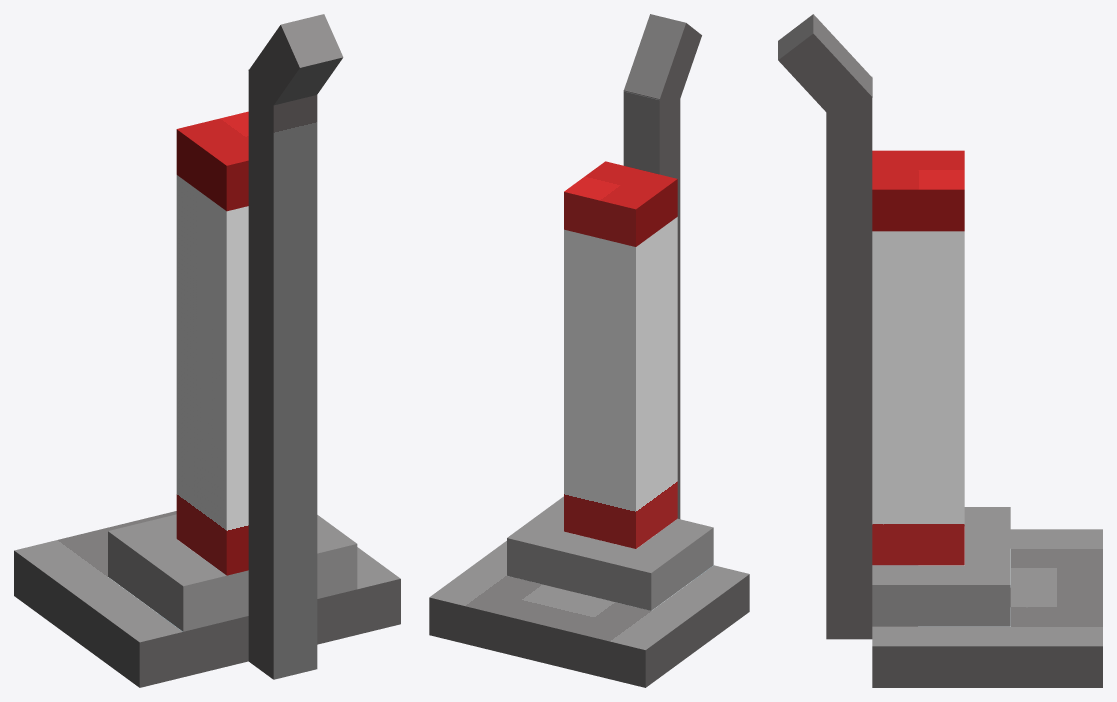
File: vacuum_cleaner.glb
3 renders of one model, left to right at view 1: azimuth 30°, elevation 25°; view 2: azimuth 150°, elevation 25°; view 3: azimuth 270°, elevation 25°, orthographic. The views are drawn at different scales.
Parts seen in each view (by area): view 1: Tube_0, cube_2, cube_7, cube_8, Handle_1, cube_3; view 2: cube_2, cube_7, cube_8, cube_3, Tube_0, Handle_1; view 3: cube_2, Tube_0, cube_7, cube_8, cube_3, Handle_1.
Boxes of the visible parts, bbox=[...] form: Tube_0: bbox=[248, 69, 317, 679]; cube_2: bbox=[176, 175, 248, 575]; cube_7: bbox=[14, 511, 400, 687]; cube_8: bbox=[108, 514, 357, 631]; Handle_1: bbox=[248, 14, 343, 113]; cube_3: bbox=[176, 111, 248, 211]; cube_2: bbox=[564, 217, 677, 548]; cube_7: bbox=[429, 541, 749, 687]; cube_8: bbox=[507, 496, 713, 610]; cube_3: bbox=[564, 161, 677, 246]; Tube_0: bbox=[623, 84, 680, 518]; Handle_1: bbox=[624, 14, 701, 100]; cube_2: bbox=[872, 231, 964, 565]; Tube_0: bbox=[826, 77, 872, 639]; cube_7: bbox=[872, 529, 1102, 687]; cube_8: bbox=[872, 507, 1010, 626]; cube_3: bbox=[872, 150, 964, 231]; Handle_1: bbox=[778, 14, 872, 123].
Bounding box in the file's own units: 0.375 × 0.9064 × 0.4404.
1 material, 1 textured.
